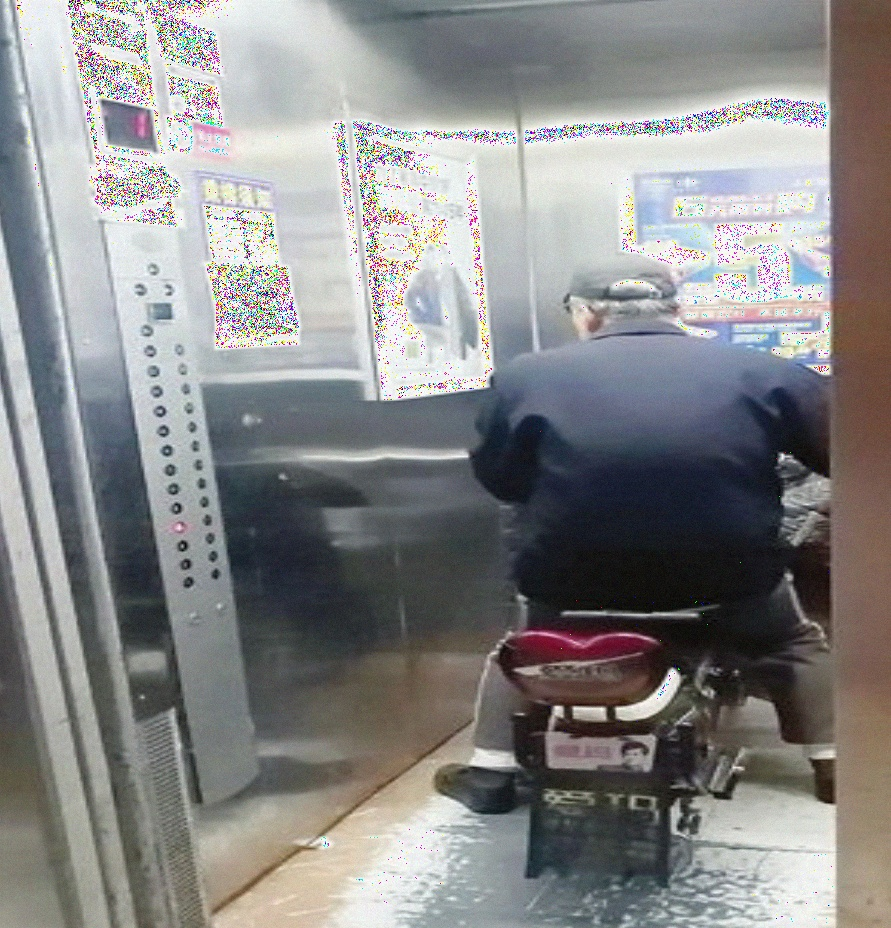ebike: (490, 600, 753, 874)
person: (471, 247, 847, 801)
